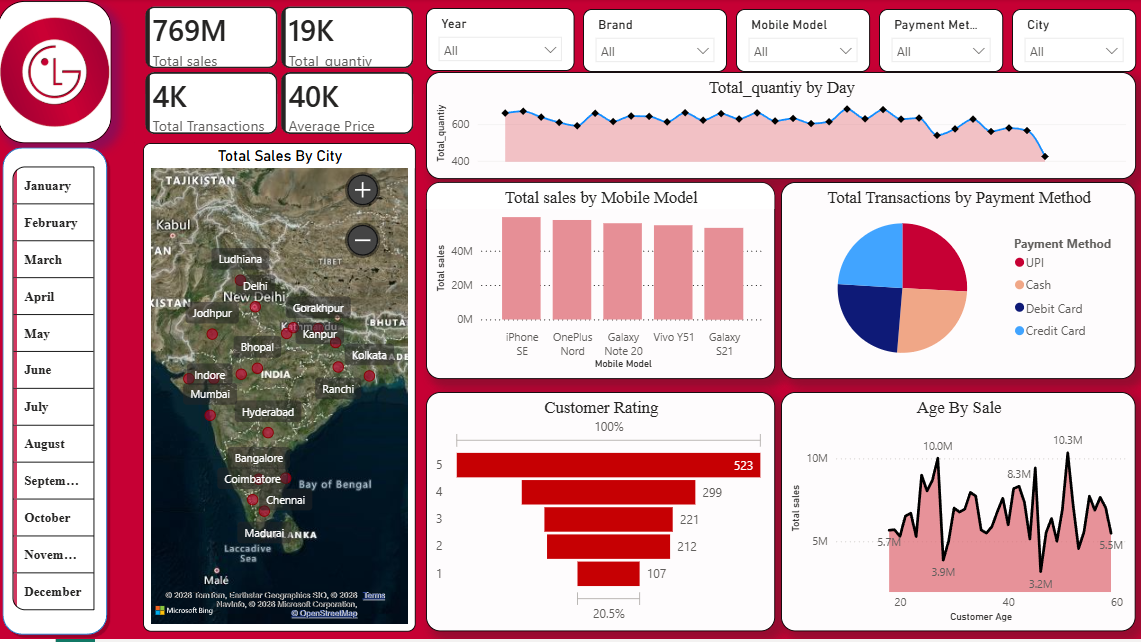

Layout of this report page (visuals, bound fields, positions):
{"tool":"powerbi","page":{"name":"Page 1","canvas":[1280,720],"ordinal":0},"visuals":[{"type":"image","box":[0,11.2,126.2,157.5],"z":0},{"type":"shape","box":[0,168.8,126.2,551.2],"z":1000},{"type":"advancedSlicerVisual","fields":{"Values":["Sheet1.Date.Variation.Date Hierarchy.Month"]},"box":[11.2,190,101.2,510],"z":2000},{"type":"cardVisual","fields":{"Data":["Sheet1.Total sales","Sheet1.Total quantiy sold","Sheet1.Total Transactions","Sheet1.Average Price"]},"box":[146.2,0,332.5,177.5],"z":3000},{"type":"map","title":"Total Sales By City","fields":{"Category":["Sheet1.City"]},"box":[161.2,168.8,302.5,542.5],"z":4000},{"type":"lineChart","fields":{"Category":["Sheet1.Date.Variation.Date Hierarchy.Month","Sheet1.Date.Variation.Date Hierarchy.Day"],"Y":["Sheet1.Total_quantiy"]},"box":[475,90,788.8,118.8],"z":5000},{"type":"clusteredColumnChart","fields":{"Category":["Sheet1.Mobile Model"],"Y":["Sheet1.Total sales"]},"box":[475,212.5,387.5,218.8],"z":6000},{"type":"pieChart","fields":{"Category":["Sheet1.Payment Method"],"Y":["Sheet1.Total Transactions"]},"box":[870,212.5,393.8,218.8],"z":7000},{"type":"funnel","title":"Customer Rating","fields":{"Category":["Sheet1.Customer Ratings"],"Y":["CountNonNull(Sheet1.Customer Ratings)"]},"box":[475,445,387.5,266.2],"z":8000},{"type":"areaChart","title":"Age By Sale","fields":{"Y":["Sheet1.Total sales"],"Category":["Sheet1.Customer Age"]},"box":[870,445,393.8,266.2],"z":9000},{"type":"slicer","fields":{"Values":["Sheet1.Brand"]},"box":[650,20,160,70],"z":10000},{"type":"slicer","fields":{"Values":["Sheet1.Payment Method"]},"box":[978.8,20,137.5,70],"z":11000},{"type":"slicer","fields":{"Values":["Sheet1.City"]},"box":[1126.2,20,137.5,70],"z":12000},{"type":"slicer","fields":{"Values":["Sheet1.Mobile Model"]},"box":[820,20,148.8,70],"z":13000},{"type":"slicer","fields":{"Values":["Sheet1.Date.Variation.Date Hierarchy.Year"]},"box":[475,18.8,165,70],"z":14000}]}

Visuals, with their boxes in screenshot pixels (x1, y1, x2, y2), scaled from the page's 1280x720 canvas onto the 1141x642 screenshot:
image: left=0, top=10, right=112, bottom=150
shape: left=0, top=151, right=112, bottom=641
advancedSlicerVisual - Sheet1.Date.Variation.Date Hierarchy.Month: left=10, top=169, right=100, bottom=624
cardVisual - Sheet1.Total sales x Sheet1.Total quantiy sold: left=130, top=0, right=427, bottom=158
"Total Sales By City" map: left=144, top=151, right=413, bottom=634
lineChart - Sheet1.Date.Variation.Date Hierarchy.Month x Sheet1.Date.Variation.Date Hierarchy.Day: left=423, top=80, right=1127, bottom=186
clusteredColumnChart - Sheet1.Mobile Model x Sheet1.Total sales: left=423, top=189, right=769, bottom=385
pieChart - Sheet1.Payment Method x Sheet1.Total Transactions: left=776, top=189, right=1127, bottom=385
"Customer Rating" funnel: left=423, top=397, right=769, bottom=634
"Age By Sale" areaChart: left=776, top=397, right=1127, bottom=634
slicer - Sheet1.Brand: left=579, top=18, right=722, bottom=80
slicer - Sheet1.Payment Method: left=873, top=18, right=995, bottom=80
slicer - Sheet1.City: left=1004, top=18, right=1126, bottom=80
slicer - Sheet1.Mobile Model: left=731, top=18, right=864, bottom=80
slicer - Sheet1.Date.Variation.Date Hierarchy.Year: left=423, top=17, right=570, bottom=79
